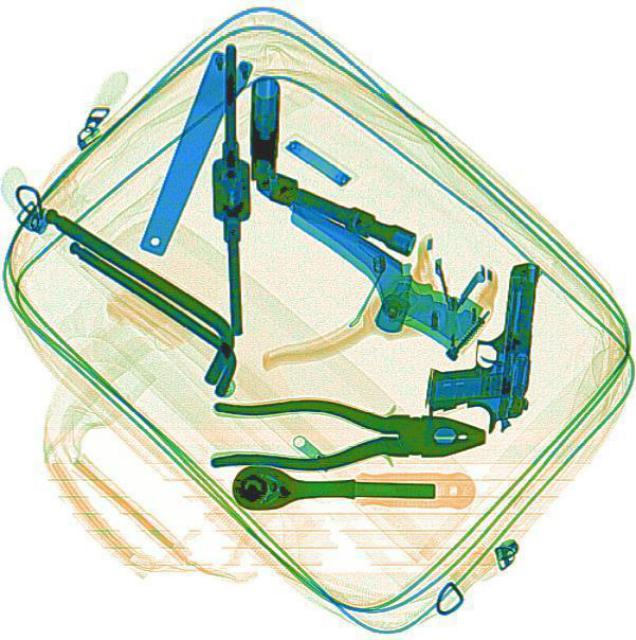Gun: (422, 255, 537, 430)
Pliers: (203, 396, 485, 472)
